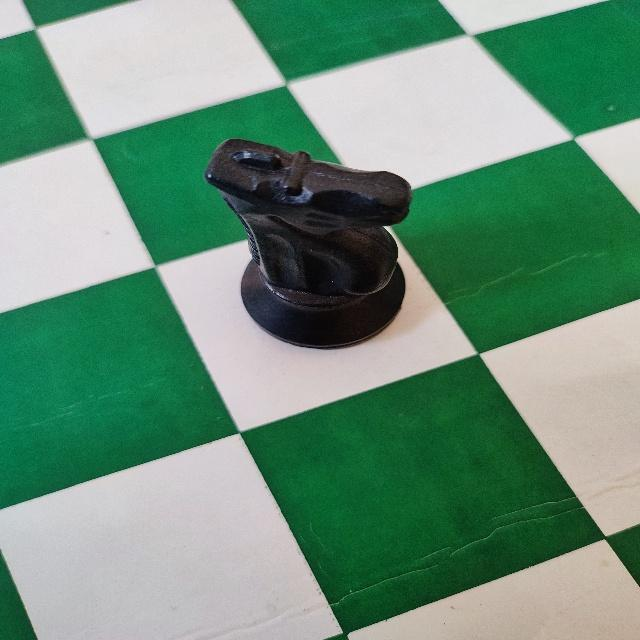Knight: (200, 133, 418, 354)
